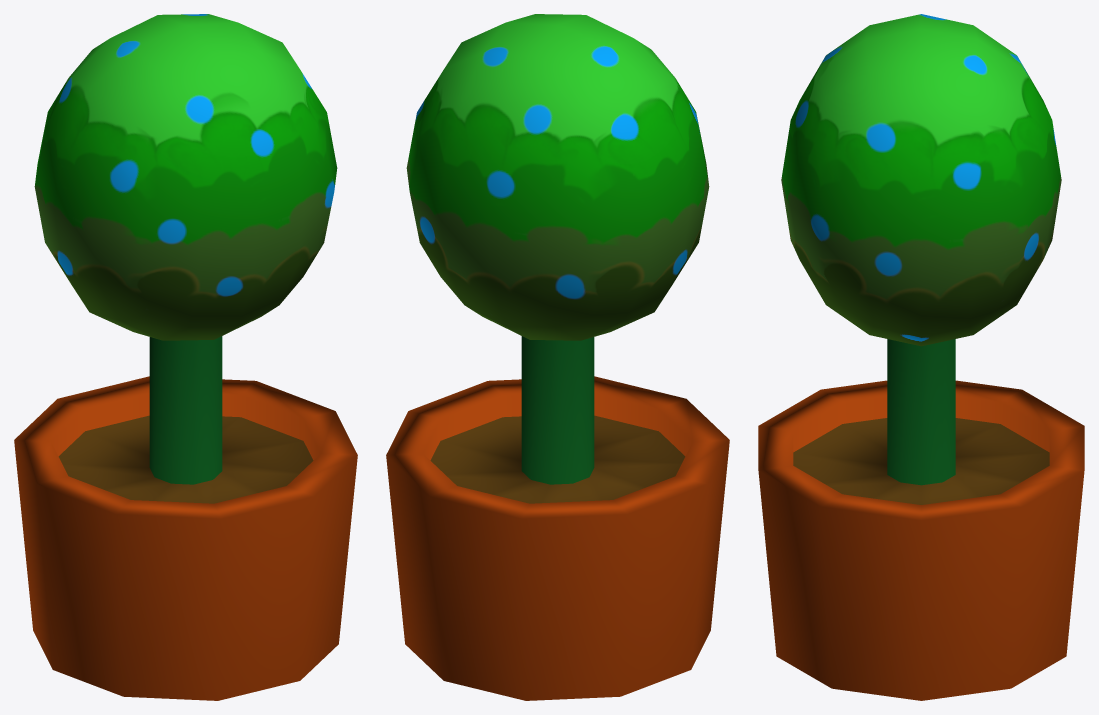
The model's file is Env_PotPlant_Style1.fbx.
The picture shows the model from 3 angles, left to right: view 1: azimuth 30°, elevation 25°; view 2: azimuth 150°, elevation 25°; view 3: azimuth 270°, elevation 25°; orthographic projection.
Visible parts, largest first — view 1: Env_PotPlant_Style1; view 2: Env_PotPlant_Style1; view 3: Env_PotPlant_Style1.
Boxes of the visible parts, x1,y1,x2,y2 form: Env_PotPlant_Style1: [14, 14, 357, 700]; Env_PotPlant_Style1: [386, 14, 729, 700]; Env_PotPlant_Style1: [758, 14, 1084, 700].
Bounding box in the file's own units: 60.11 × 117 × 57.17.
